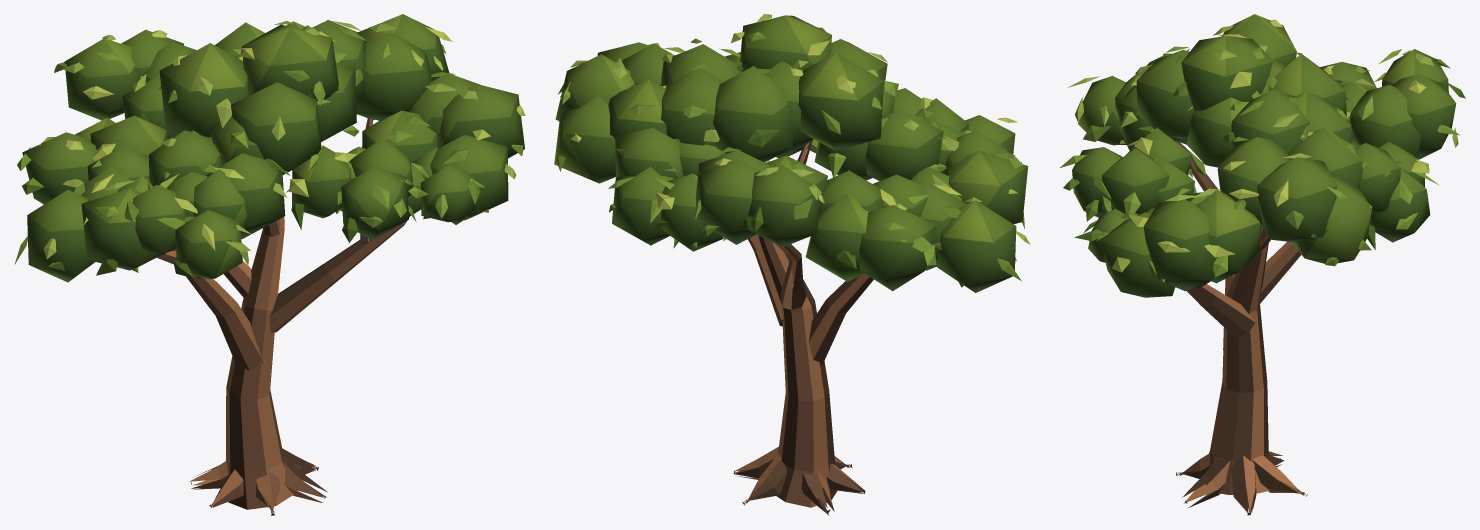
Rendered from wsc-prop-012-deciduous-tree-far.glb.
3 renders of one model, left to right at view 1: azimuth 30°, elevation 25°; view 2: azimuth 150°, elevation 25°; view 3: azimuth 270°, elevation 25°, orthographic.
Visible parts, largest first — view 1: Distant · Oak • layered asymmetric crown cores, Distant · Oak • flared trunk and tapering forks, Distant · Oak • individual folded broadleaf geometry; view 2: Distant · Oak • layered asymmetric crown cores, Distant · Oak • flared trunk and tapering forks, Distant · Oak • individual folded broadleaf geometry; view 3: Distant · Oak • layered asymmetric crown cores, Distant · Oak • flared trunk and tapering forks, Distant · Oak • individual folded broadleaf geometry.
Part boxes in pixels (box(x1,y1,x2,y2)): Distant · Oak • layered asymmetric crown cores: box(22, 14, 524, 282); Distant · Oak • flared trunk and tapering forks: box(157, 117, 409, 515); Distant · Oak • individual folded broadleaf geometry: box(14, 21, 525, 278); Distant · Oak • layered asymmetric crown cores: box(554, 15, 1028, 292); Distant · Oak • flared trunk and tapering forks: box(733, 140, 873, 515); Distant · Oak • individual folded broadleaf geometry: box(556, 14, 1030, 287); Distant · Oak • layered asymmetric crown cores: box(1072, 14, 1456, 297); Distant · Oak • flared trunk and tapering forks: box(1176, 141, 1307, 515); Distant · Oak • individual folded broadleaf geometry: box(1060, 19, 1465, 282).
Bounding box in the file's own units: 5.58 × 5.34 × 4.21.
